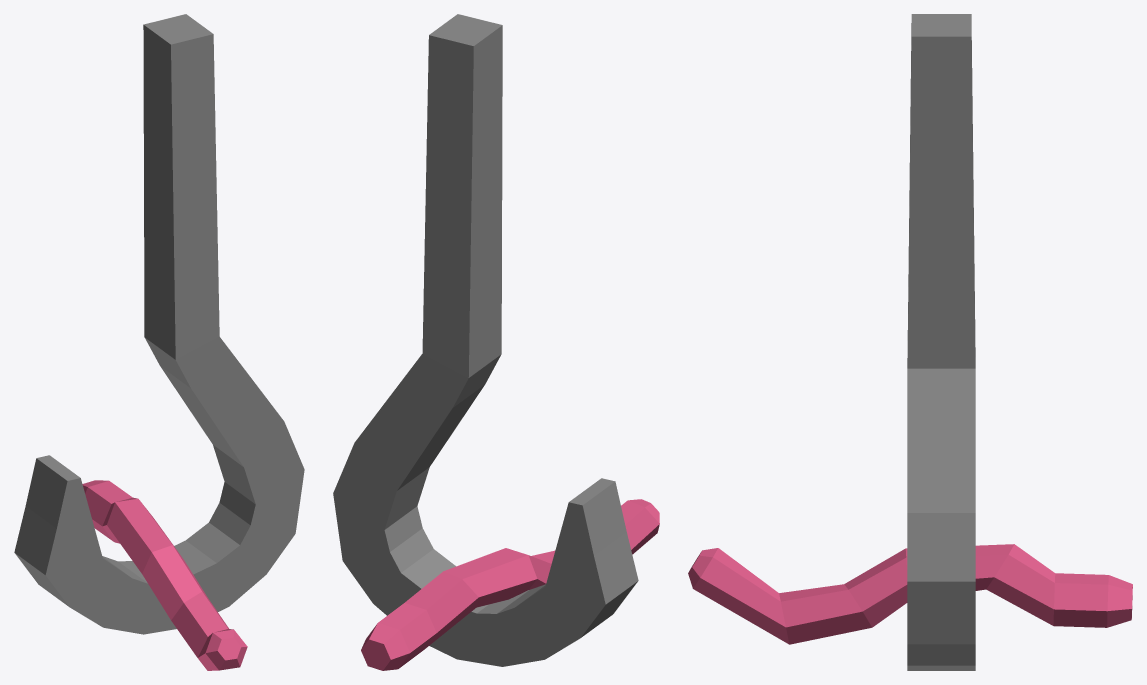
File: Hook.fbx
The picture shows the model from 3 angles, left to right: view 1: azimuth 30°, elevation 25°; view 2: azimuth 150°, elevation 25°; view 3: azimuth 270°, elevation 25°; orthographic projection. The views are drawn at different scales.
Visible parts, largest first — view 1: Hook; view 2: Hook; view 3: Hook.
Part boxes in pixels (x1,y1,x2,y2): Hook: (14, 14, 304, 670); Hook: (333, 14, 659, 670); Hook: (688, 14, 1132, 670).
Bounding box in the file's own units: 45.62 × 98.43 × 62.17.
